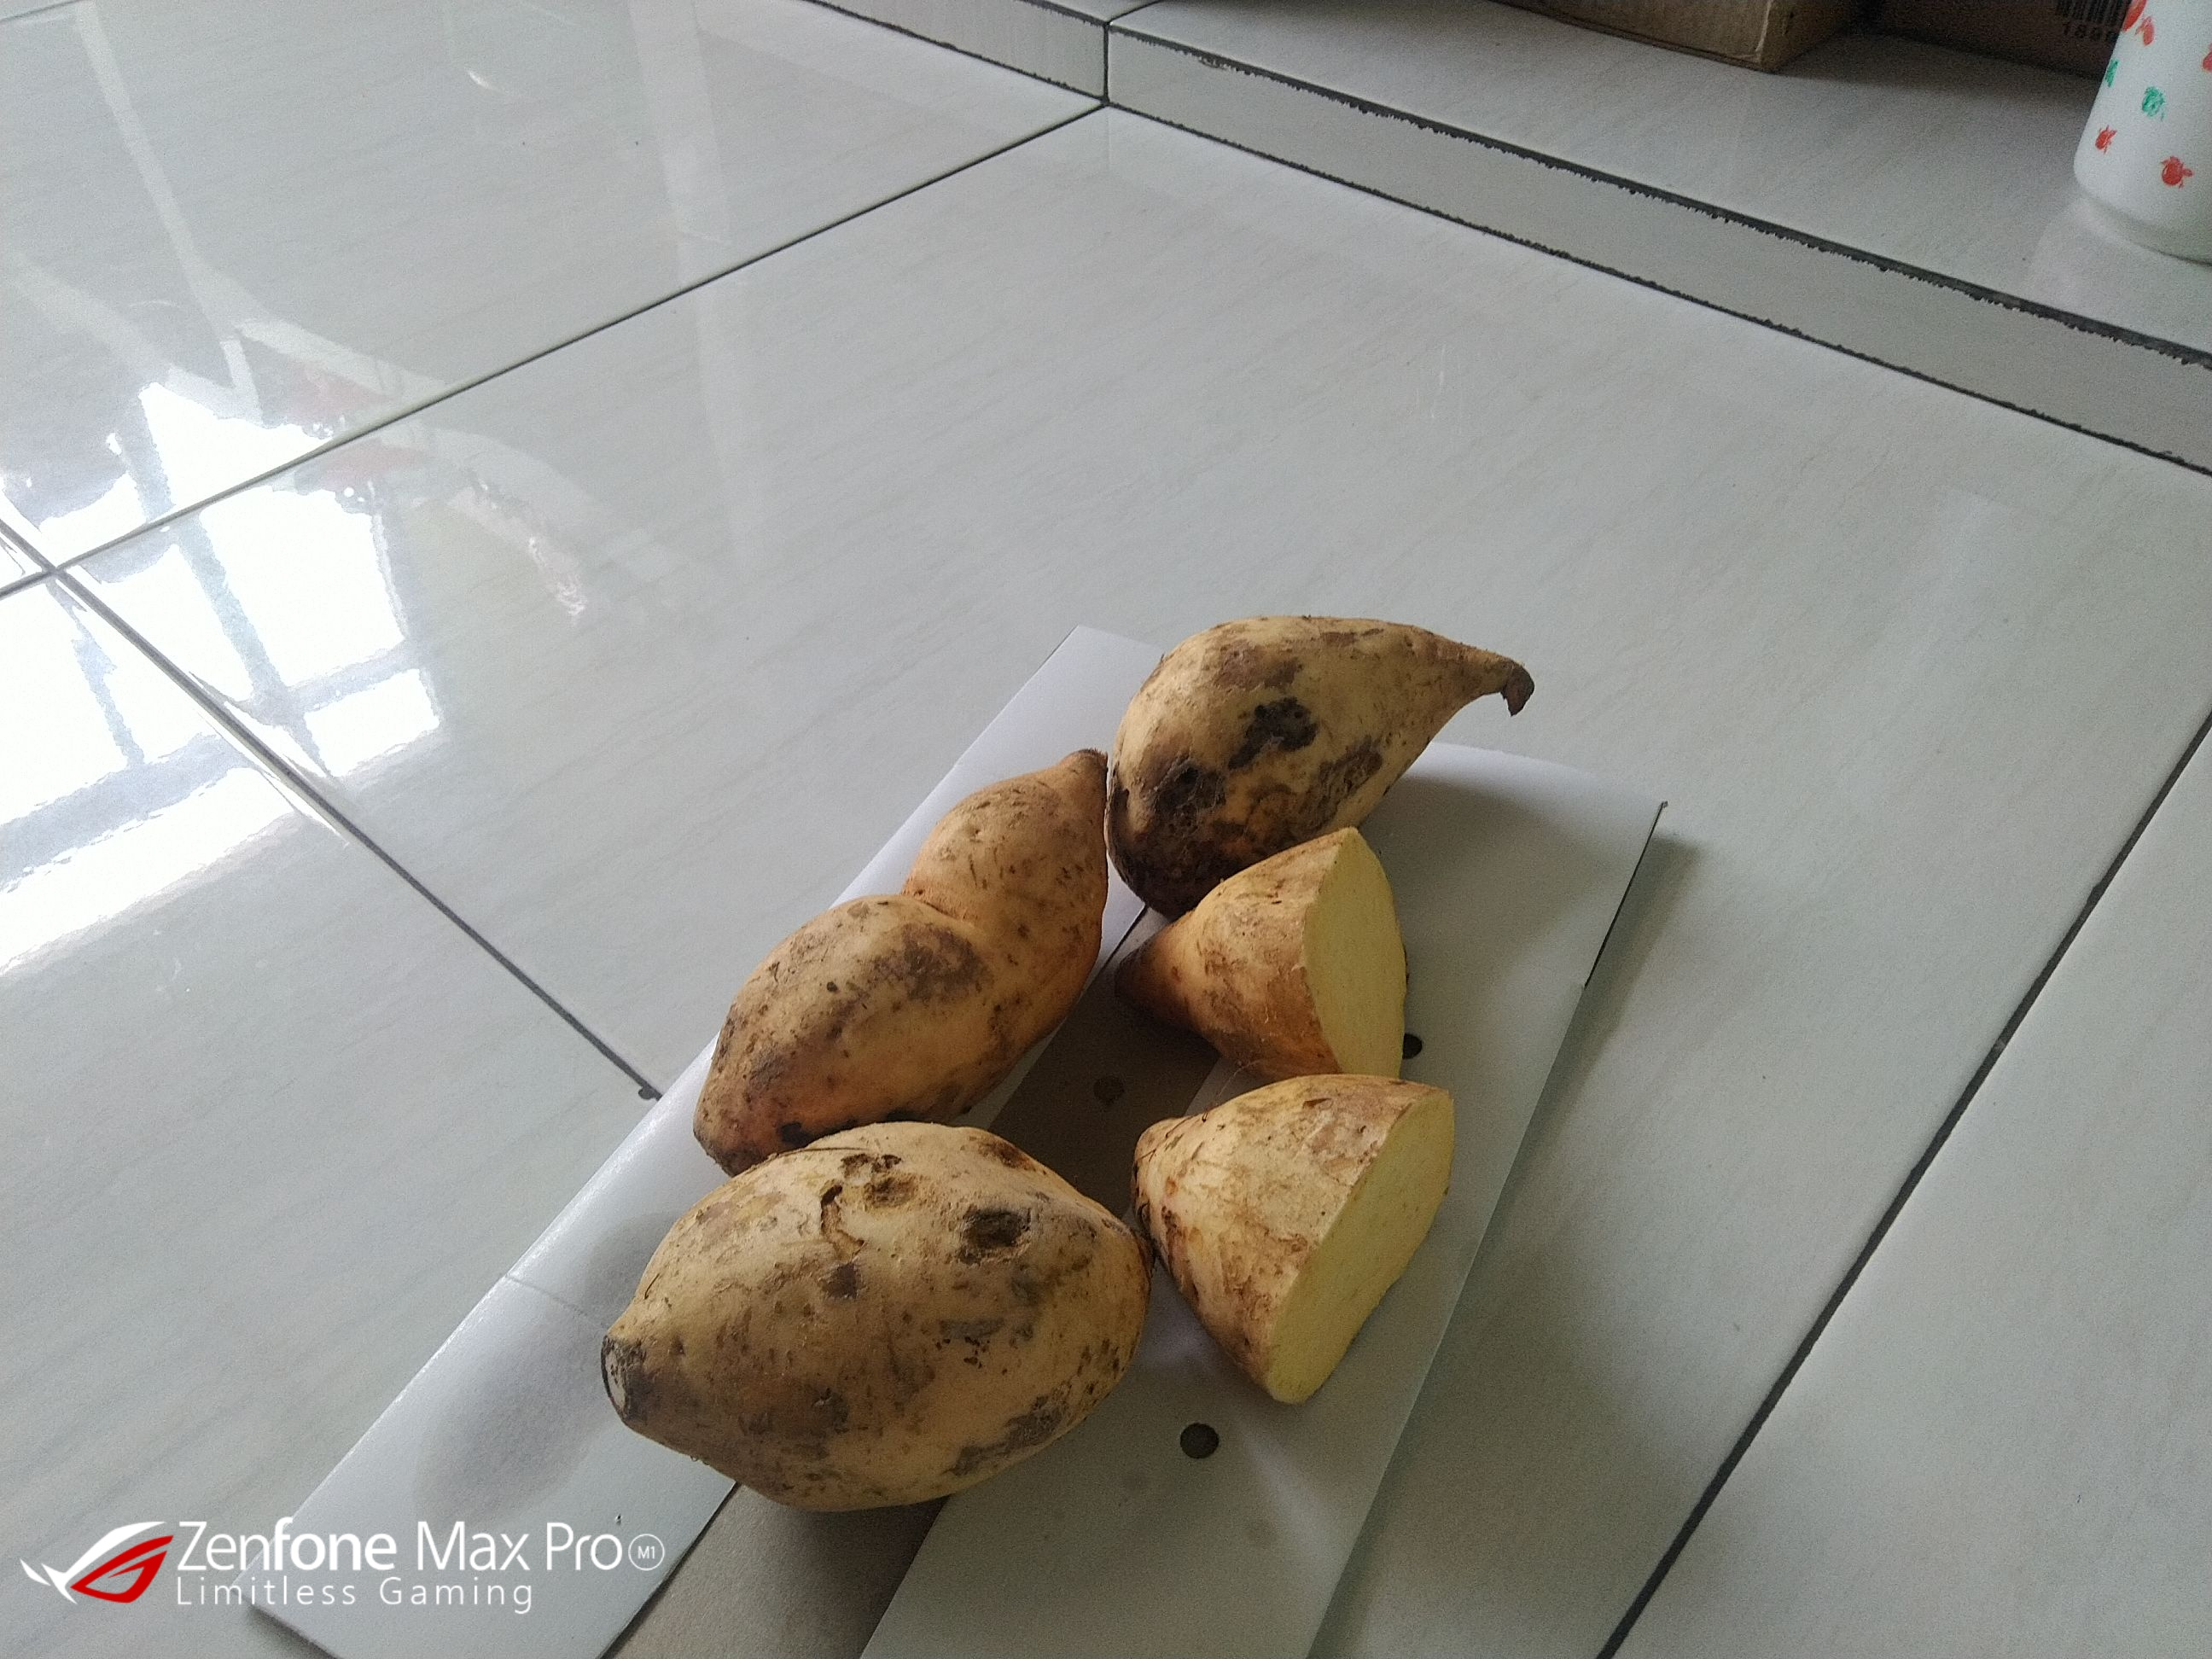ubi kuning: (596, 1112, 1165, 1523), (697, 742, 1150, 1194), (1103, 598, 1561, 913), (1123, 1072, 1467, 1419), (1094, 828, 1491, 1079)
